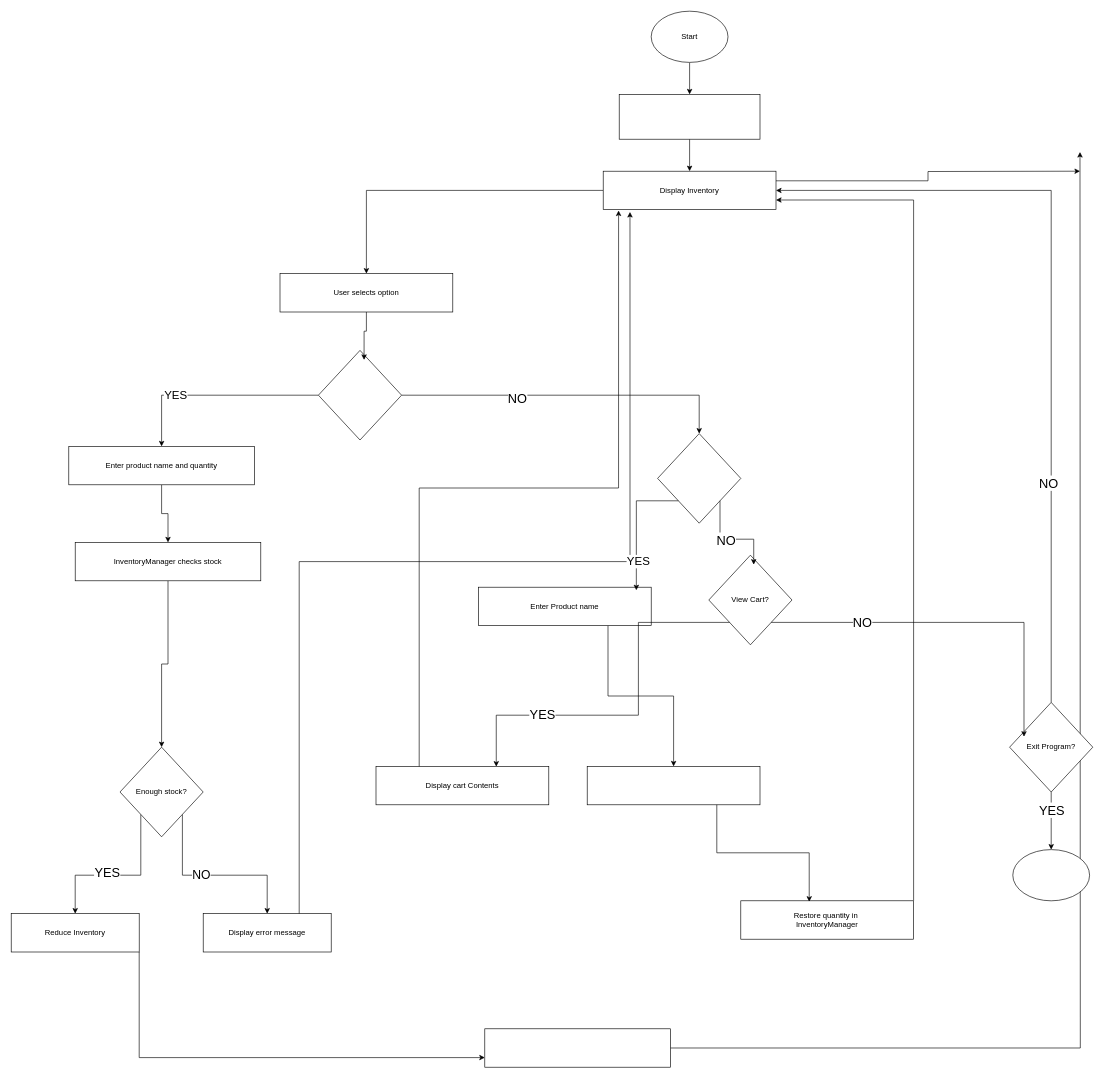
Image size: 1104x1078. Some labels were removed from this diagram. Here are the shapes that lost their labels. From the top down, the box of each, then its label:
(619, 94, 760, 139): Initialize StoreFront
(318, 350, 402, 440): Purchase Product?
(657, 433, 741, 523): Cancel Purchase?
(587, 766, 760, 805): Remove Item from ShoppingCart
(1012, 849, 1090, 901): End
(484, 1028, 670, 1067): Add Item to ShoppingCart
